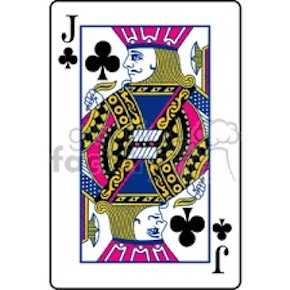JackOfClubs: (47, 1, 244, 290)
